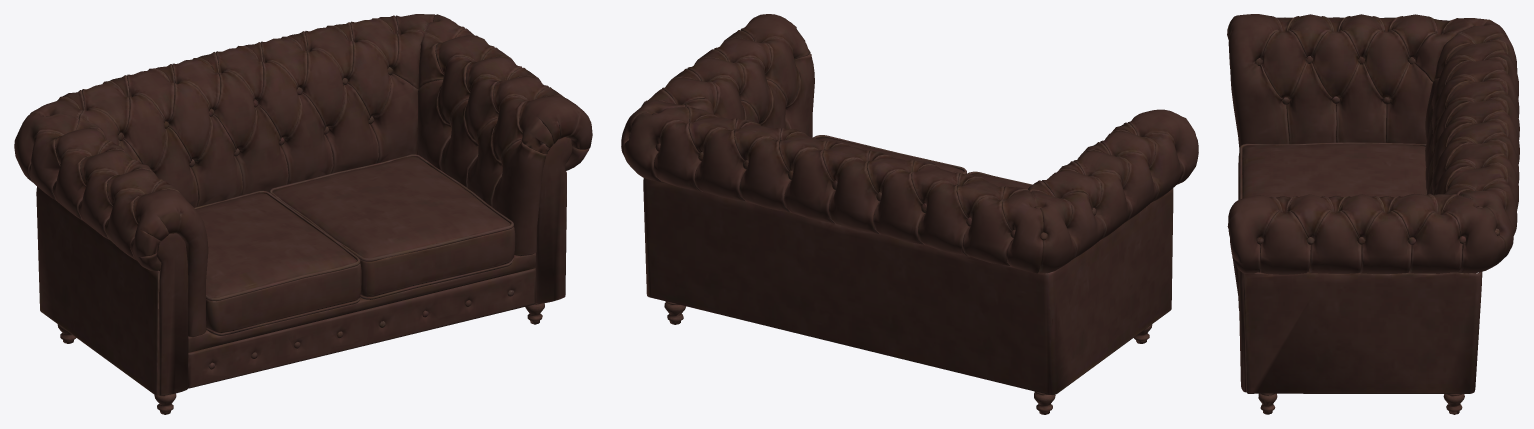
Rendered from sofa.glb.
The picture shows the model from 3 angles, left to right: view 1: azimuth 30°, elevation 25°; view 2: azimuth 150°, elevation 25°; view 3: azimuth 270°, elevation 25°; orthographic projection. The views are drawn at different scales.
Parts seen in each view (by area): view 1: sofa_geo, legs_geo4; view 2: sofa_geo, legs_geo4; view 3: sofa_geo, legs_geo4.
Part boxes in pixels (x1,y1,x2,y2): sofa_geo: (14,14,592,395); legs_geo4: (57,303,544,414); sofa_geo: (621,14,1198,395); legs_geo4: (664,301,1152,414); sofa_geo: (1227,14,1519,393); legs_geo4: (1258,393,1464,414).
Size of the model in its own units: 1.66 by 0.8044 by 0.9572.
Materials: 2 (2 with a texture image).
